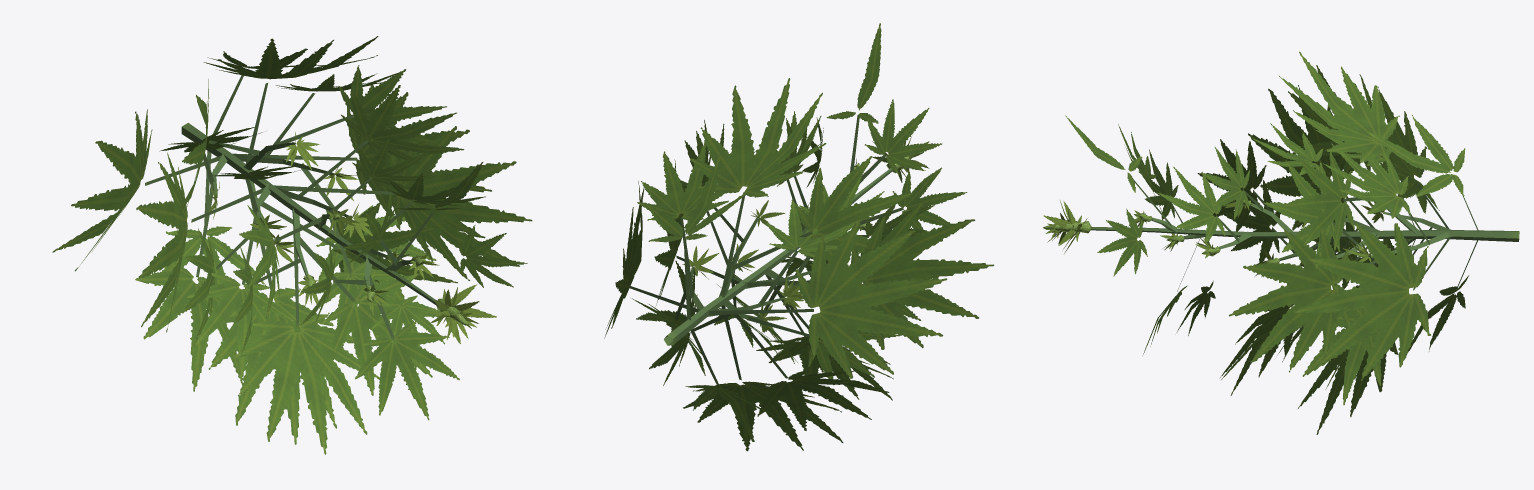
The model's file is p_landrace_preflower_c0_cards.obj.
3 renders of one model, left to right at view 1: azimuth 30°, elevation 25°; view 2: azimuth 150°, elevation 25°; view 3: azimuth 270°, elevation 25°, orthographic. The views are drawn at different scales.
Size of the model in its own units: 1.52 by 1.5 by 1.6.
Materials: 1 (1 with a texture image).
